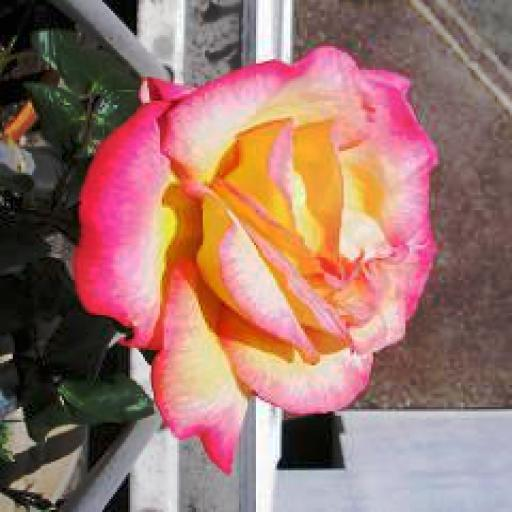rose: (79, 42, 437, 470)
